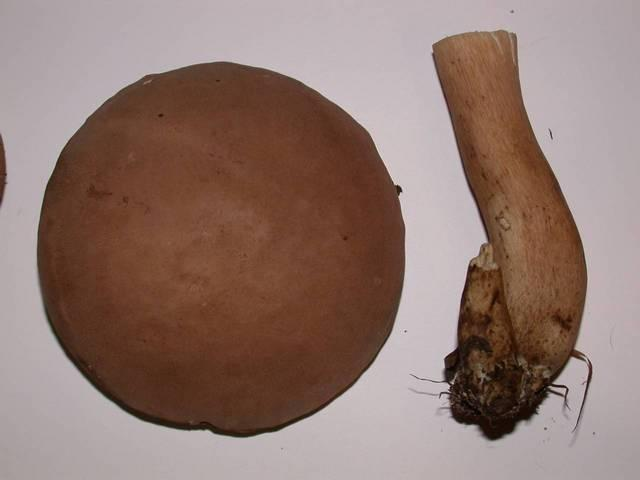Non-edible Mushroom: (35, 59, 407, 437), (419, 27, 593, 435)
